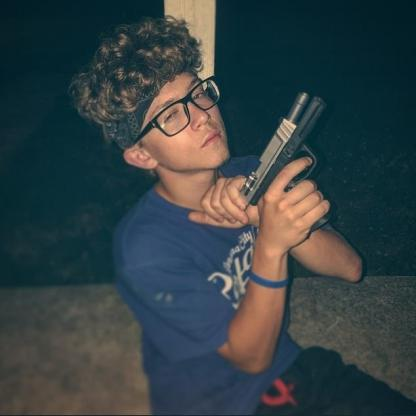Pistol: (228, 85, 352, 235)
